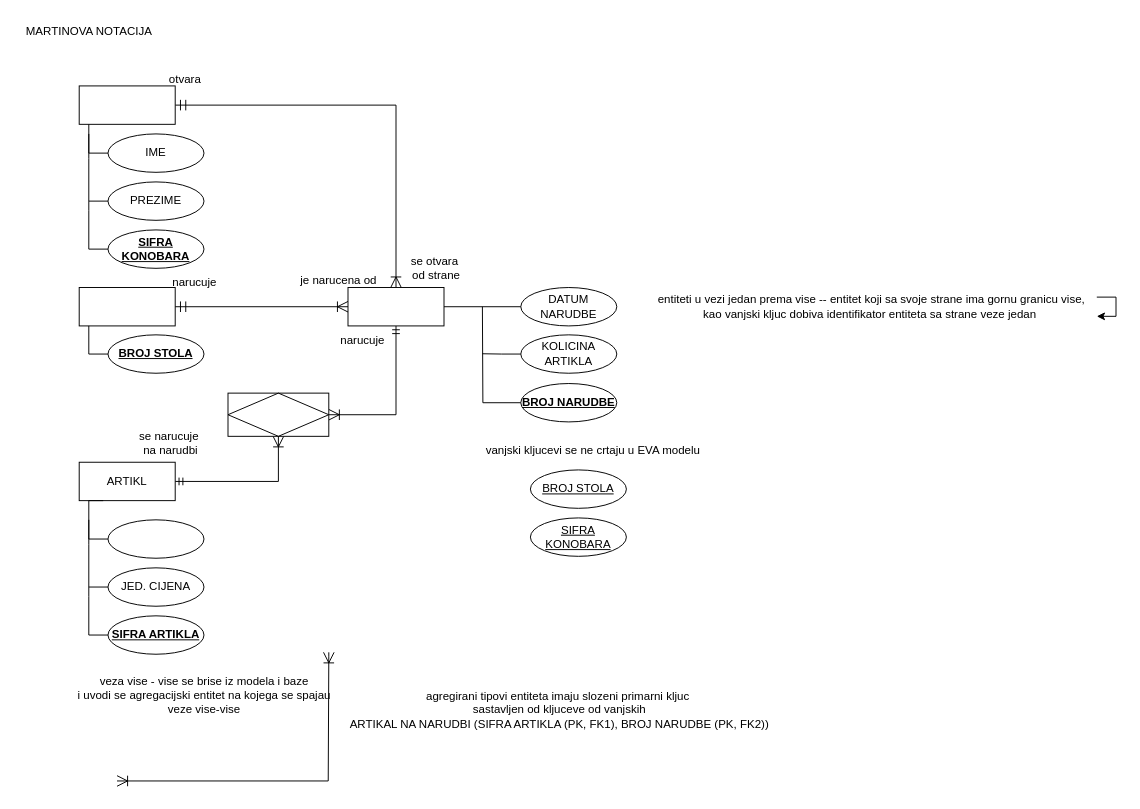
Image size: 1140x809. Some labels were removed from this diagram. Each missing label, with the centre of its shape:
"ARTIKL NA NARUDBI" goes at (278,414).
"KONOBAR" goes at (126,104).
"NARUDBA" goes at (395,306).
"NAZIV" goes at (155,538).
"STOL" goes at (126,306).
